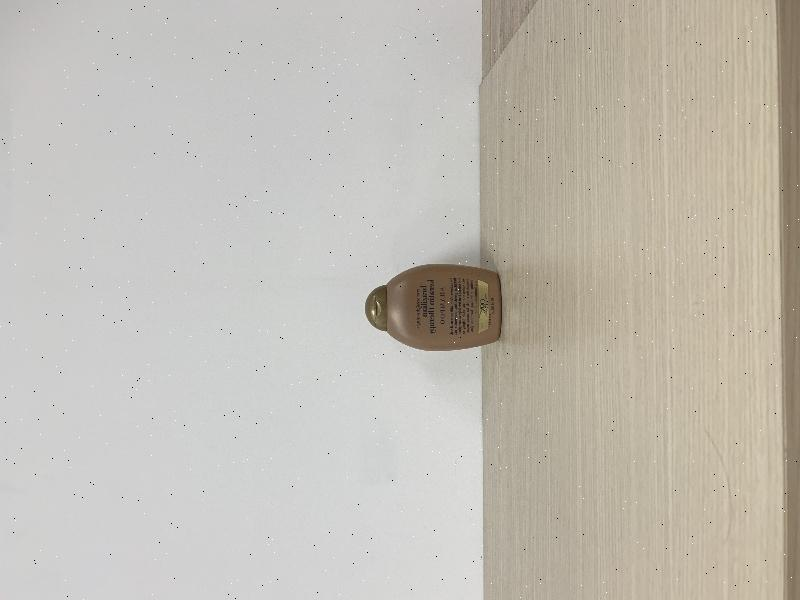BrazilianKeratinTherapy_Shampoo: (367, 264, 500, 351)
